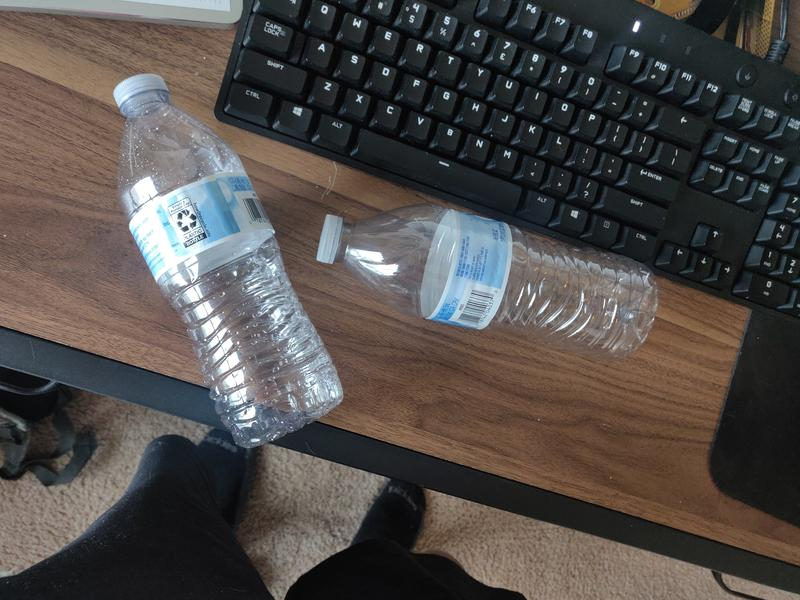bottle: (112, 72, 343, 449), (315, 203, 658, 359)
